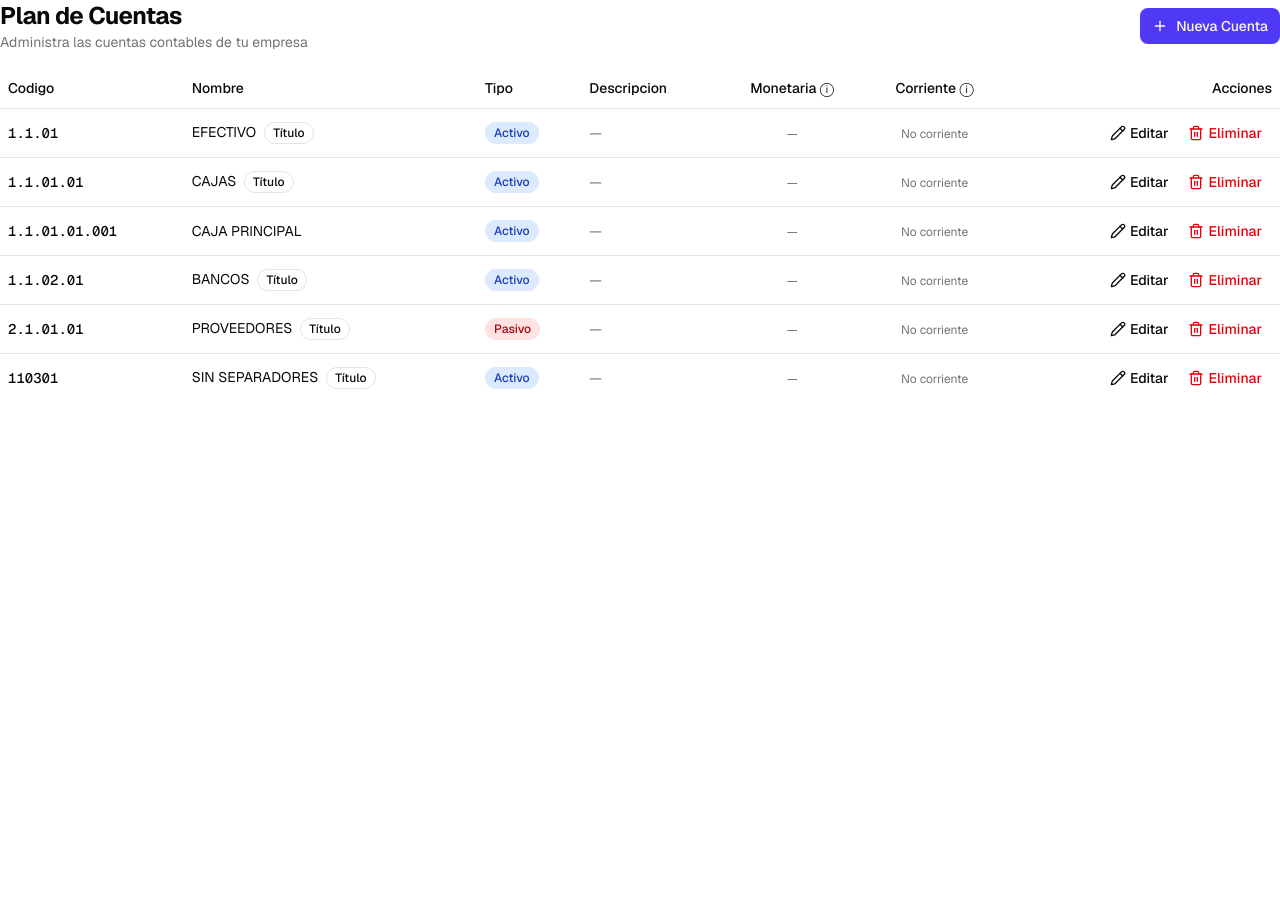
AccountsTable — Nueva cuenta con título padre (SPEC-008 CA-UI) › (d) si la action falla muestra el error de negocio y conserva el código anterior
Click the button "Nueva Cuenta" at [1210, 26], box [1140,8,1279,44]
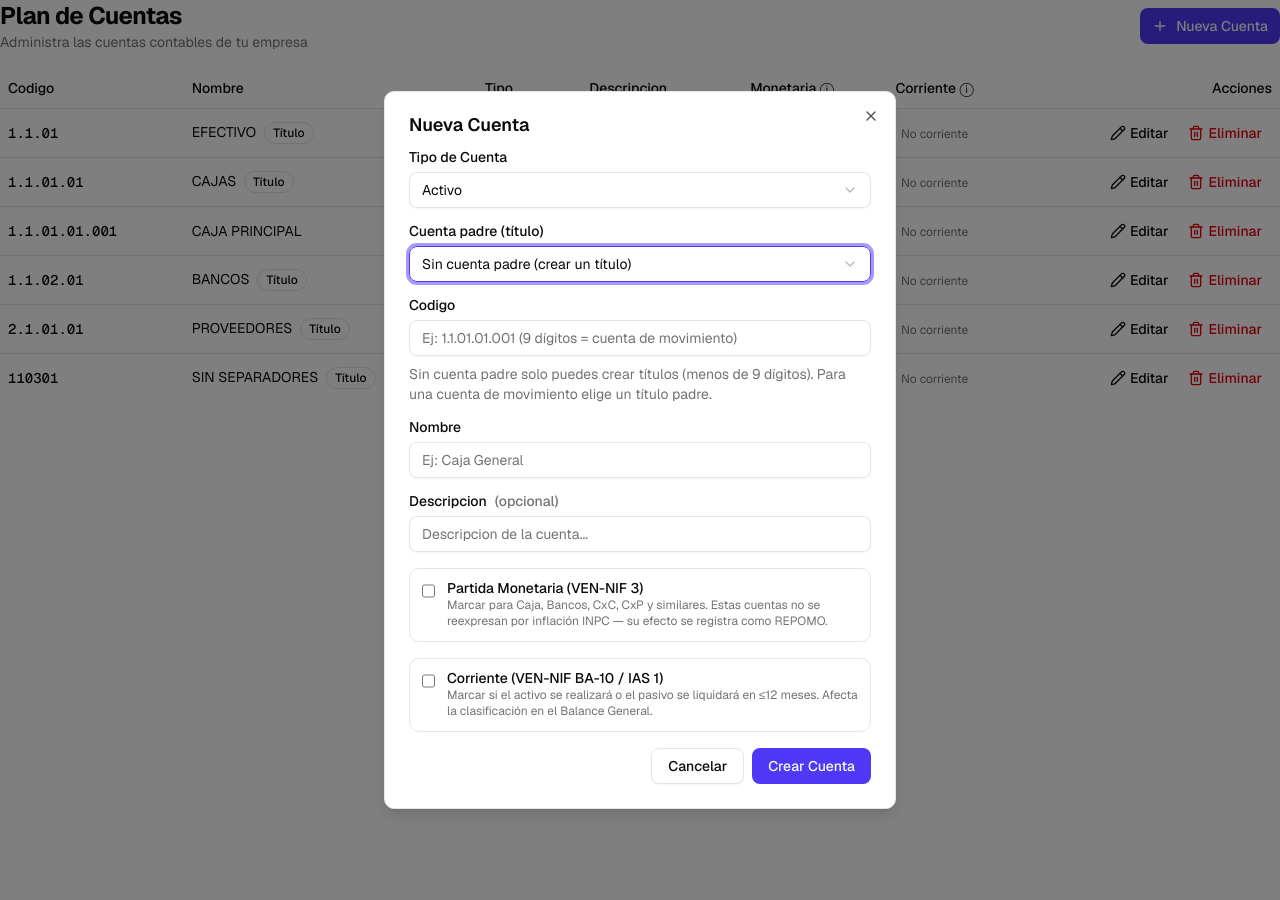
Expected: the dialog is shown, [384,91,896,809]
Press Enter in the dropdown named "Cuenta padre (título)", box [409,246,871,282]
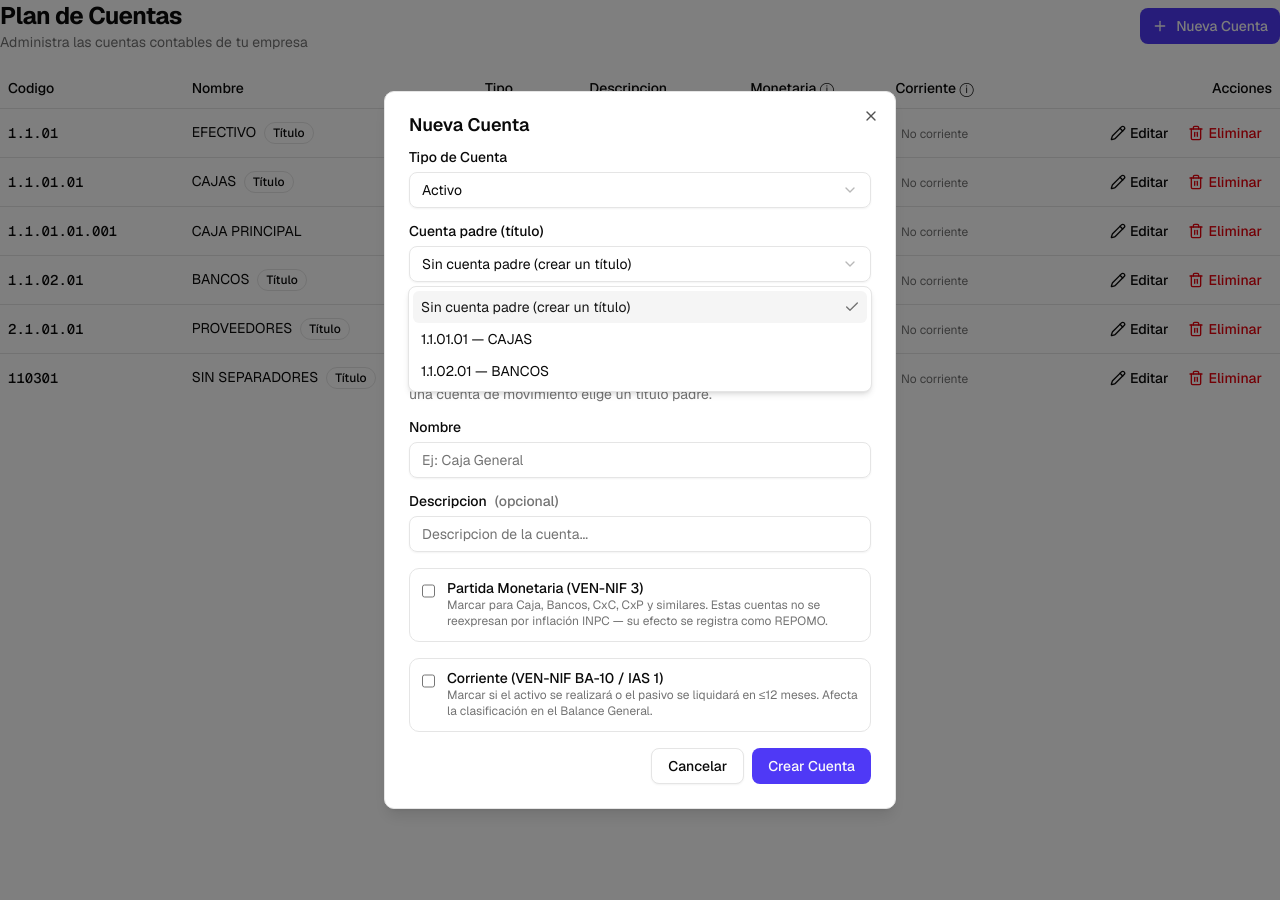
Expected: the list is shown, [408,286,872,392]
Click the option "1.1.01.01 — CAJAS" at [477, 339], box [421,330,532,348]
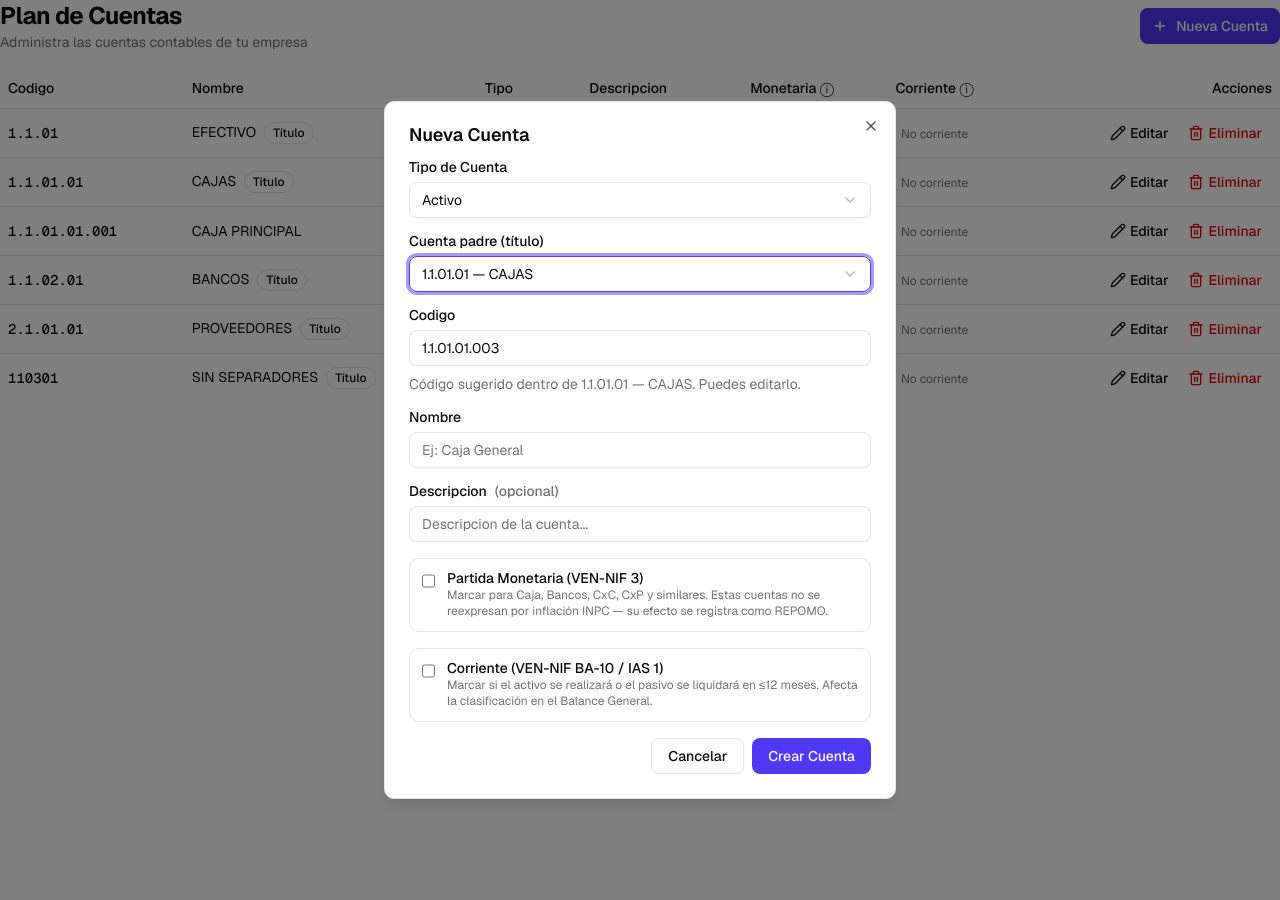
Expected: the list is gone
Expected: the field labelled "Codigo" holds "1.1.01.01.003", [409,330,871,366]
Press Enter in the dropdown named "Cuenta padre (título)", box [409,256,871,292]
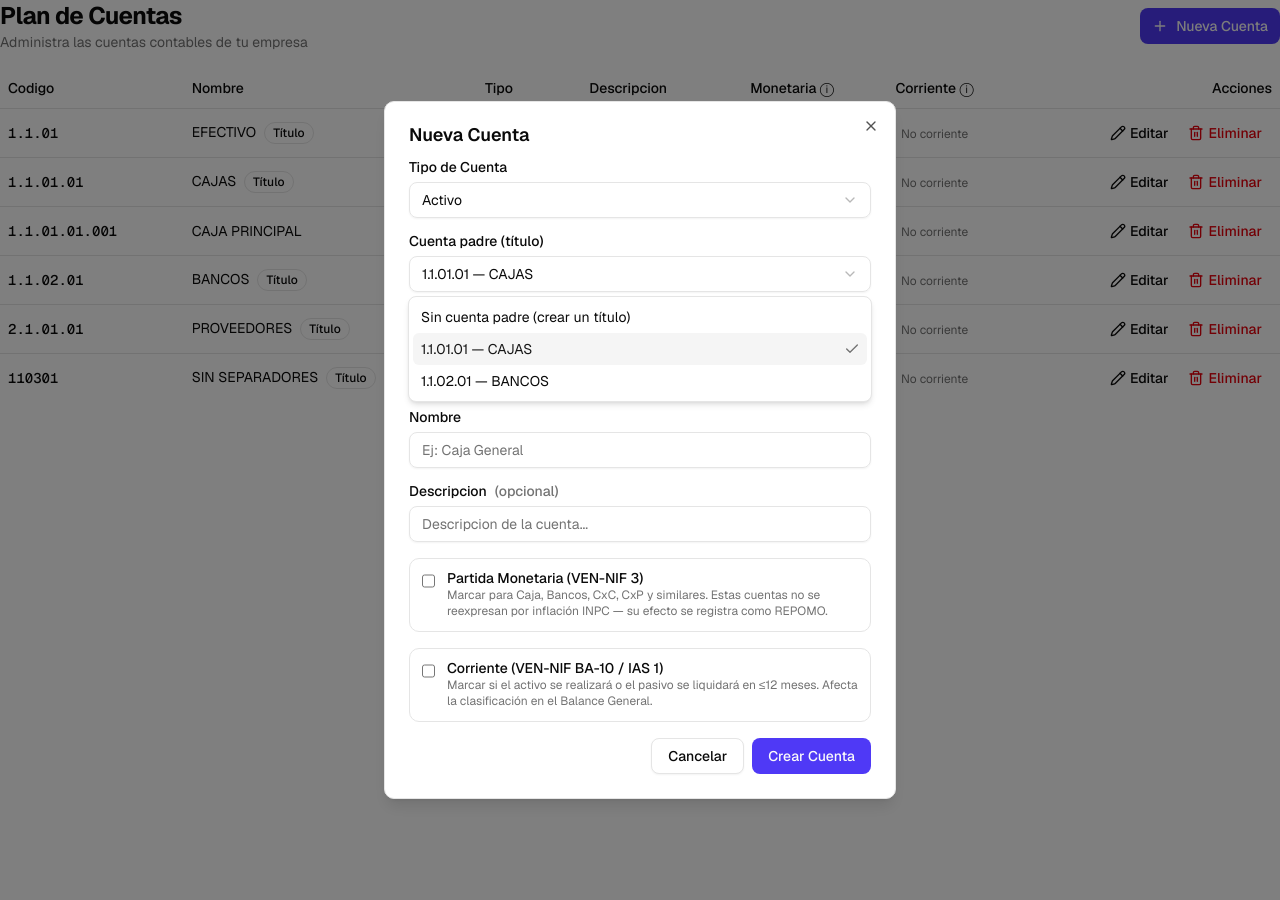
Expected: the list is shown, [408,296,872,402]
Click the option "1.1.02.01 — BANCOS" at [485, 381], box [421,372,549,390]
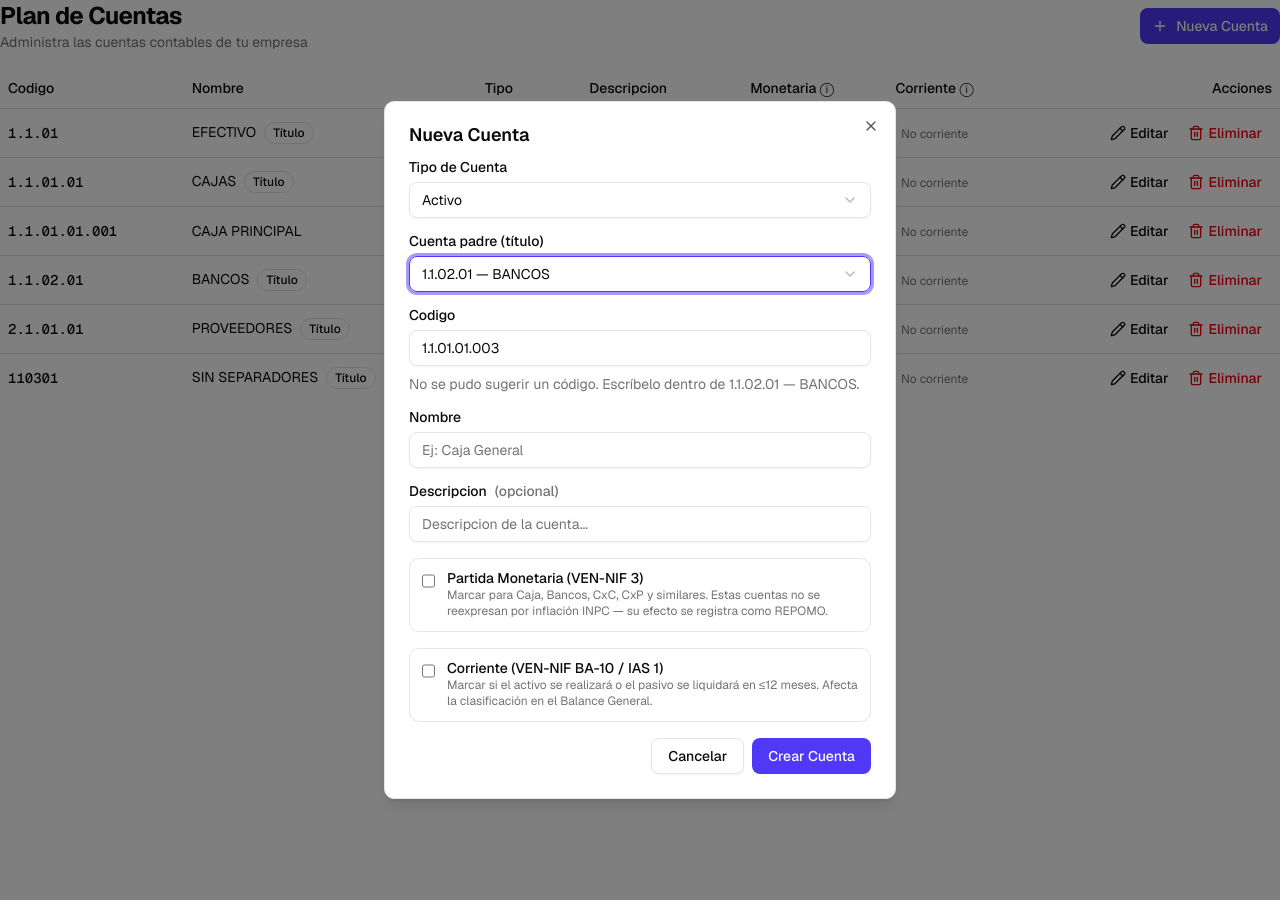
Expected: the field labelled "Codigo" holds "1.1.01.01.003", [409,330,871,366]
Expected: the field labelled "Codigo" is enabled, [409,330,871,366]
Expected: the list is gone
